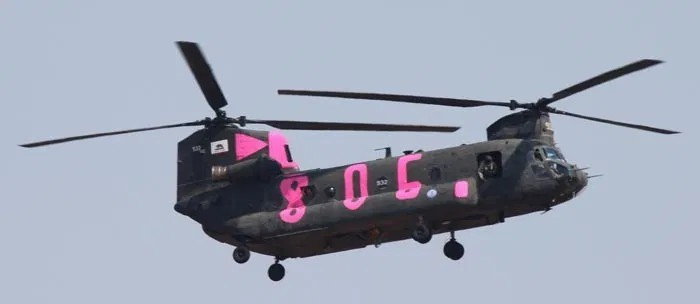chinook: (145, 82, 608, 283)
